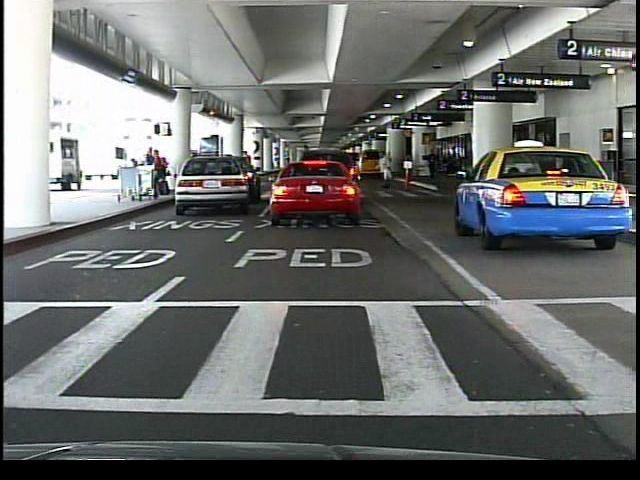person: (237, 145, 259, 202), (278, 154, 296, 207), (299, 151, 313, 203), (149, 146, 163, 197), (378, 150, 393, 189), (426, 149, 440, 184)
